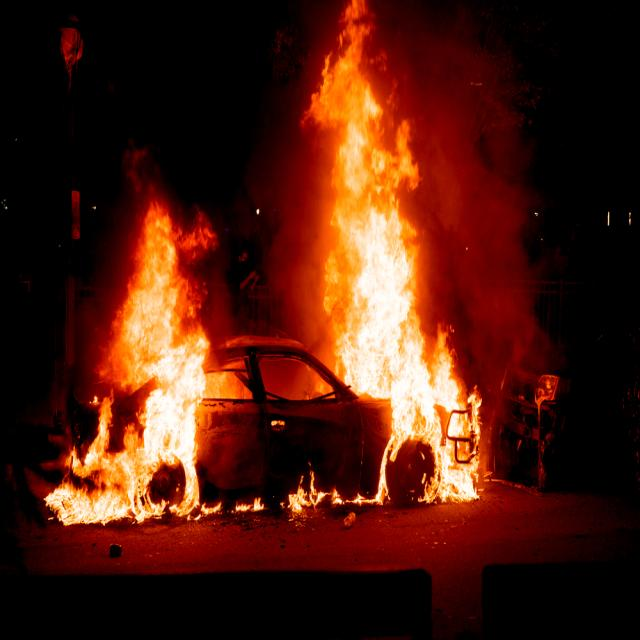fire: (325, 5, 482, 510), (46, 200, 216, 532), (282, 472, 324, 513)
